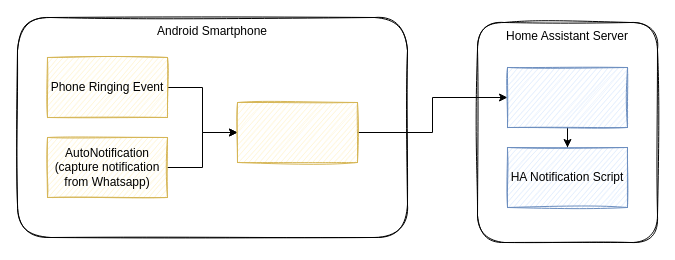
This 675x260 diagram has some shape labels left out. Here are the shapes that lost their labels. From the top down, the centre of each, then its label:
At (x=567, y=97): "REST API Script Invoke".
At (x=297, y=132): "Tasker HTTP Request".
